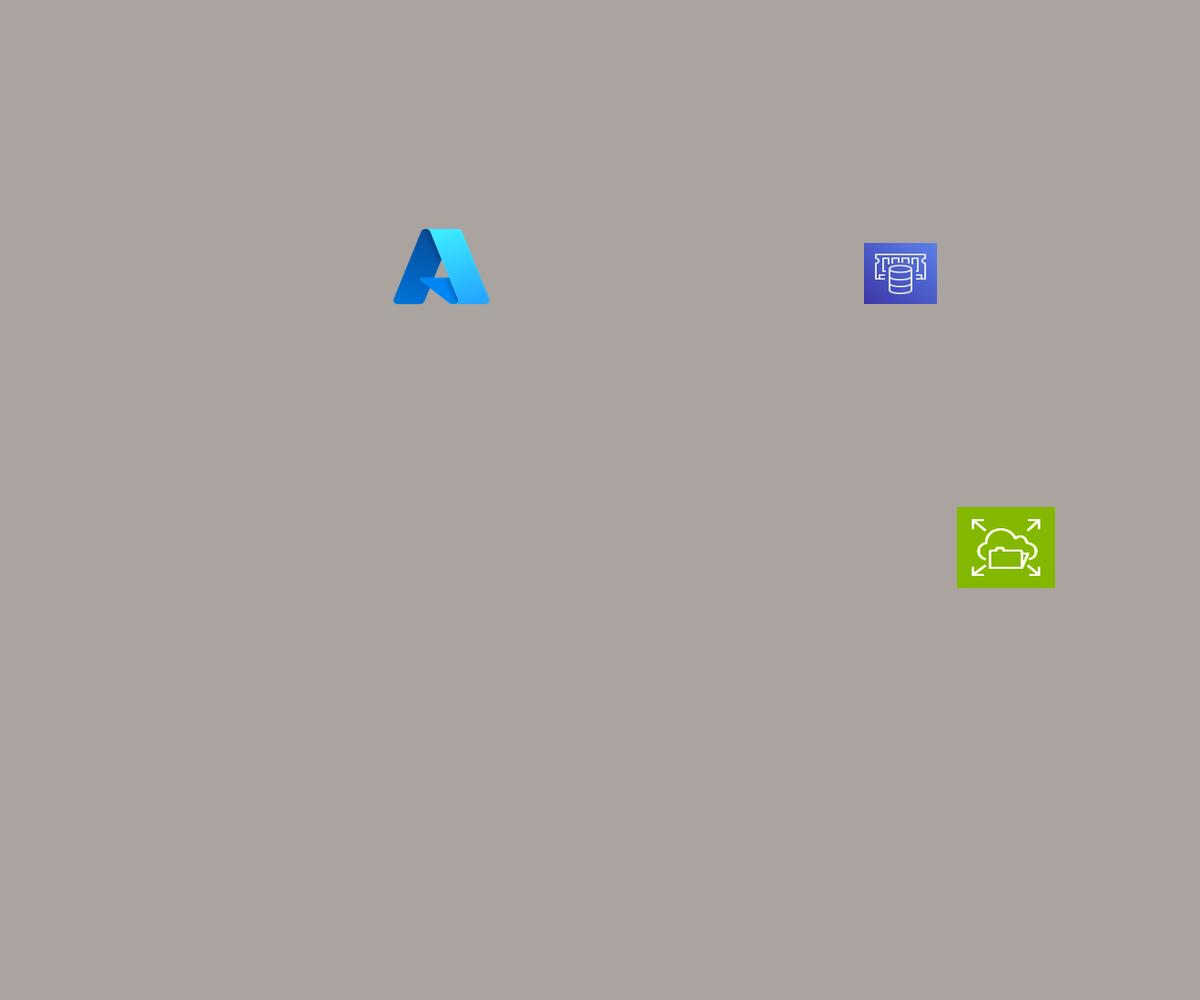AWS-EFS: (957, 507, 1055, 588)
AWS-ElastiCache: (864, 243, 937, 304)
Azure_services: (389, 223, 494, 310)
